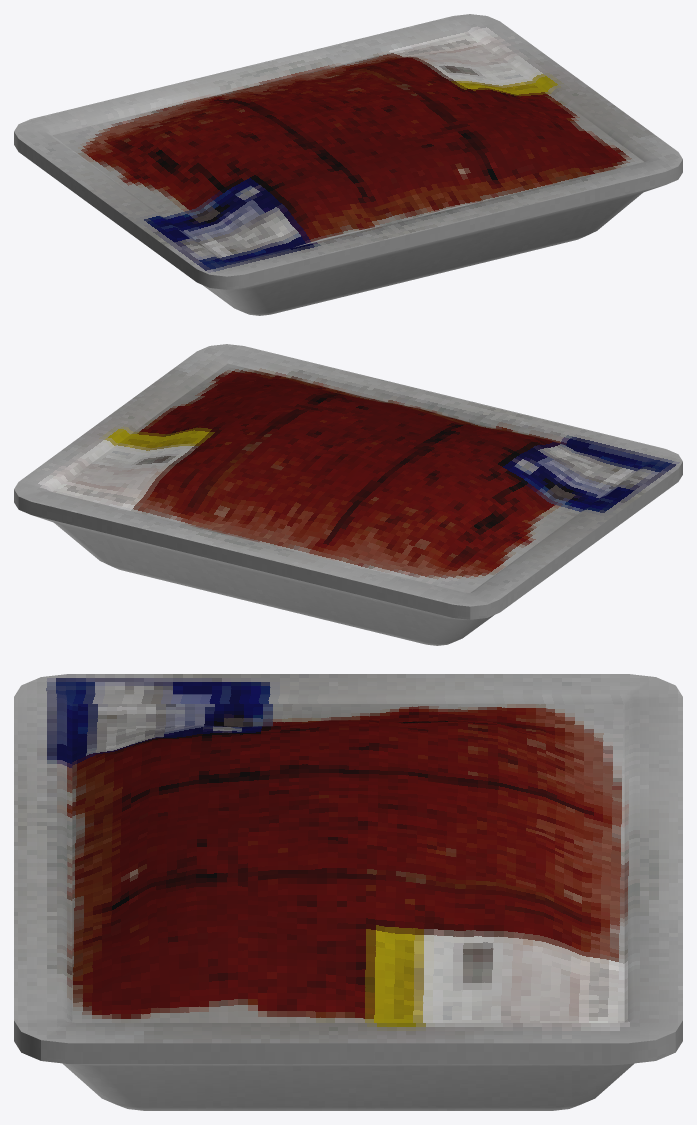
File: meat_1.glb
3 renders of one model, top to bottom at view 1: azimuth 30°, elevation 25°; view 2: azimuth 150°, elevation 25°; view 3: azimuth 270°, elevation 25°, orthographic. The views are drawn at different scales.
Visible parts, largest first — view 1: meat_1; view 2: meat_1; view 3: meat_1.
Boxes of the visible parts, x1=… form: meat_1: x1=14, y1=14, x2=682, y2=315; meat_1: x1=14, y1=344, x2=682, y2=645; meat_1: x1=14, y1=674, x2=682, y2=1110.
Size of the model in its own units: 0.342 by 0.0752 by 0.2619.
1 material, 1 textured.
